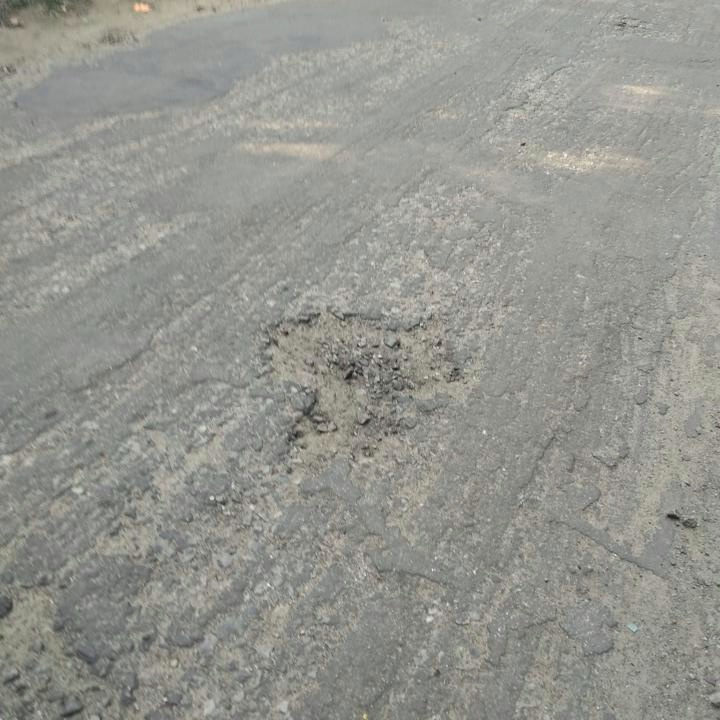pothole: (256, 298, 462, 469)
